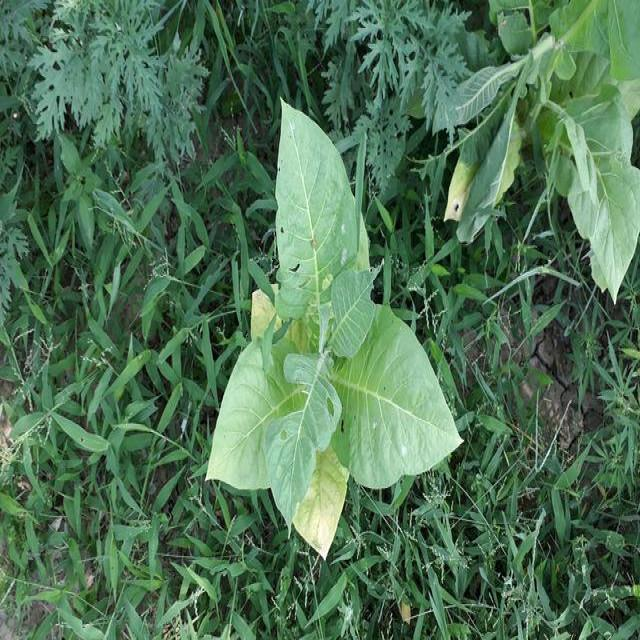crop: (200, 98, 466, 540), (454, 0, 640, 291)
